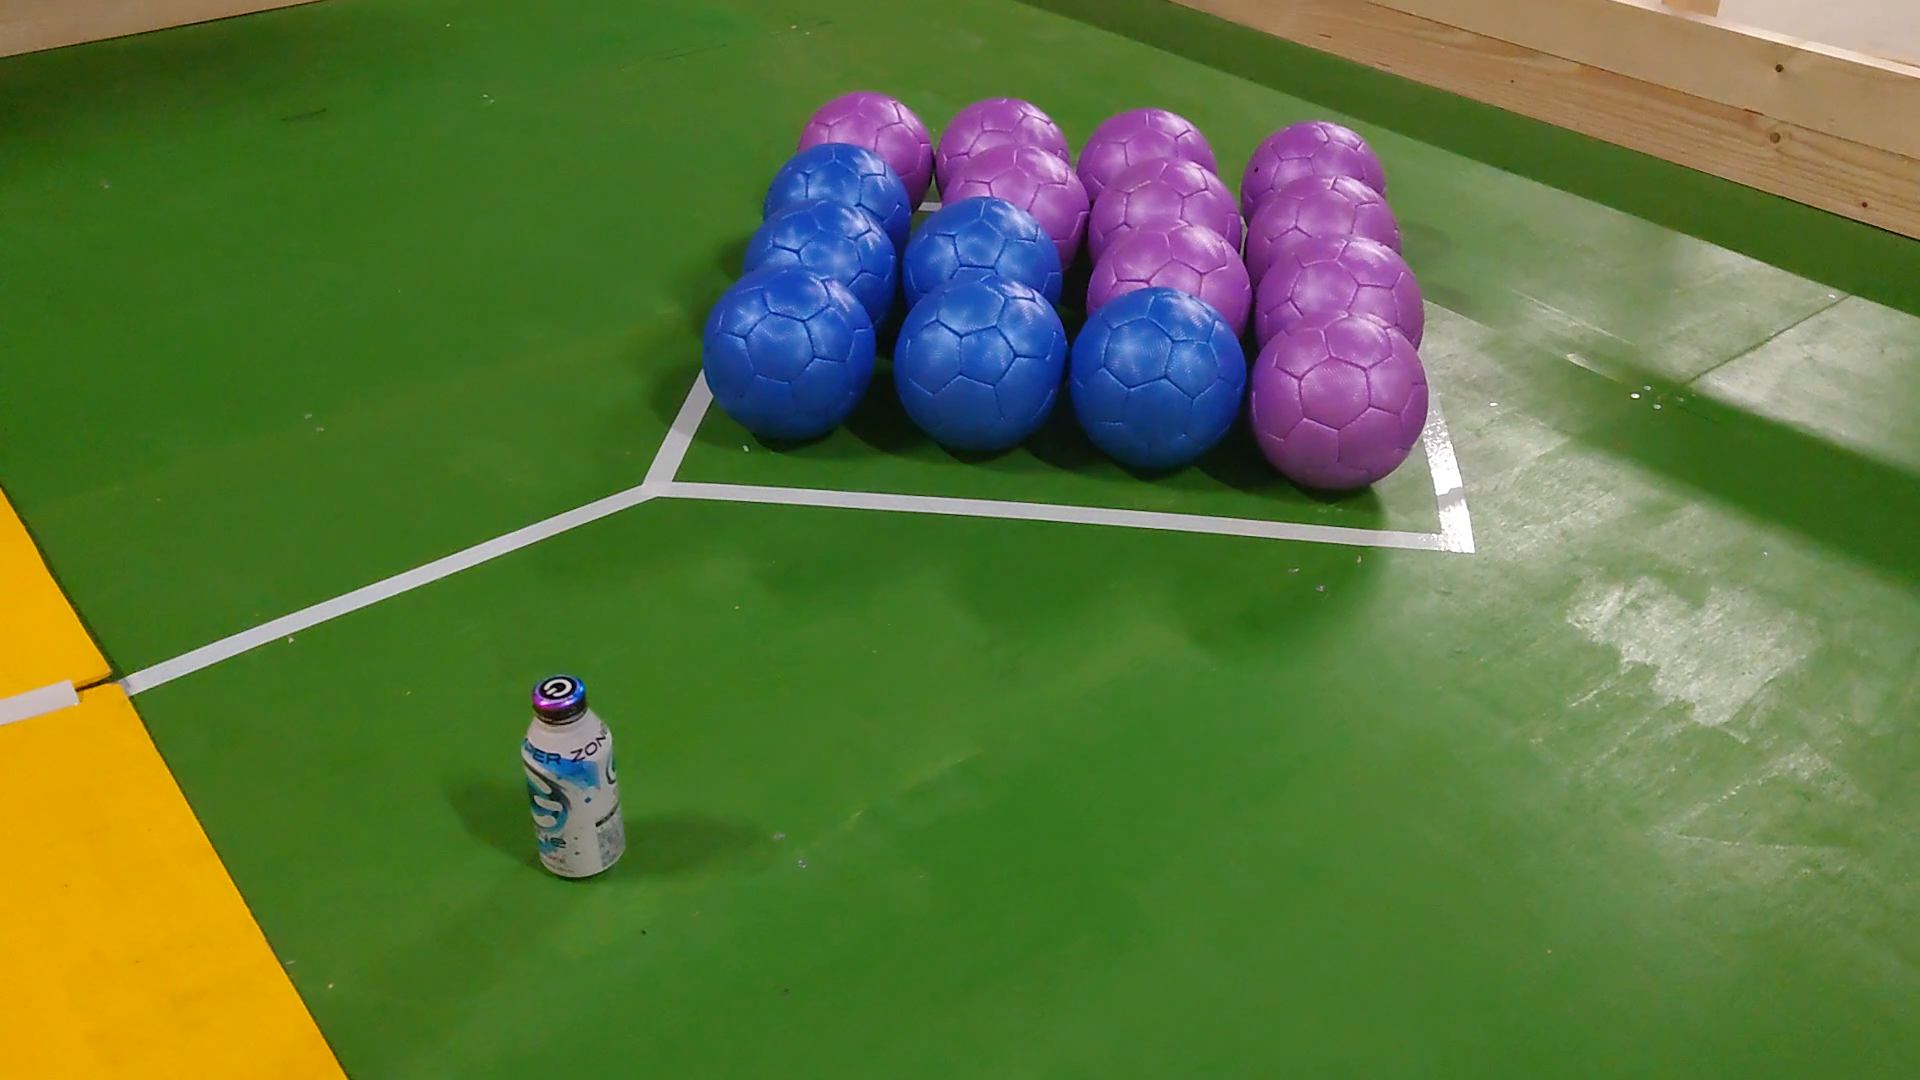blue: (1062, 284, 1247, 467), (891, 274, 1071, 460), (702, 265, 882, 444), (898, 196, 1062, 307), (738, 193, 894, 297), (757, 144, 911, 239)
purple: (1250, 310, 1431, 493), (1084, 219, 1254, 336), (1257, 232, 1427, 334), (1244, 173, 1407, 268), (940, 140, 1088, 241), (1091, 153, 1241, 252), (796, 88, 931, 186), (1241, 121, 1391, 203), (938, 95, 1071, 177), (1081, 104, 1218, 183)
